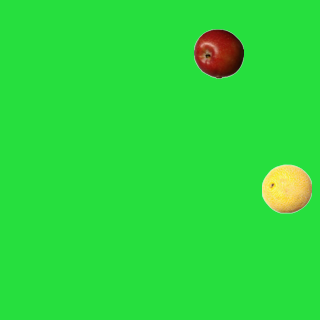Apple Braeburn: (193, 28, 243, 78)
Cantaloupe 1: (261, 163, 311, 213)
